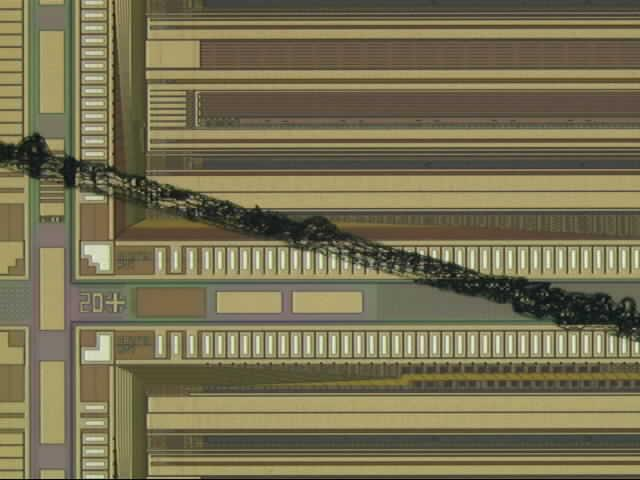SCRATCH: (1, 129, 640, 346)
